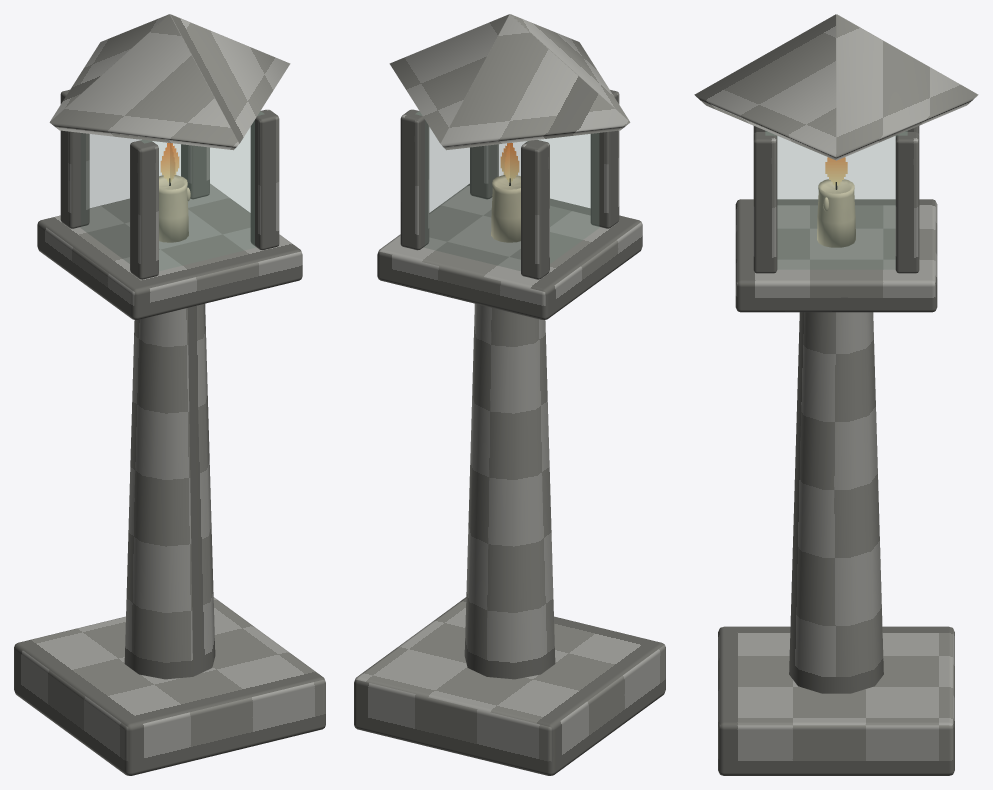
File: gardenLantern.glb
3 renders of one model, left to right at view 1: azimuth 30°, elevation 25°; view 2: azimuth 150°, elevation 25°; view 3: azimuth 270°, elevation 25°, orthographic. The views are drawn at different scales.
Parts seen in each view (by area): view 1: dyn_stone_variant, gardenLantern; view 2: dyn_stone_variant, gardenLantern; view 3: dyn_stone_variant, gardenLantern.
Part boxes in pixels (x1,y1,x2,y2): dyn_stone_variant: (14, 14, 325, 775); gardenLantern: (80, 111, 263, 270); dyn_stone_variant: (354, 14, 665, 775); gardenLantern: (416, 111, 599, 270); dyn_stone_variant: (694, 14, 978, 775); gardenLantern: (765, 131, 907, 269).
Bounding box in the file's own units: 0.4805 × 1.33 × 0.4805.
5 materials, 3 textured.
